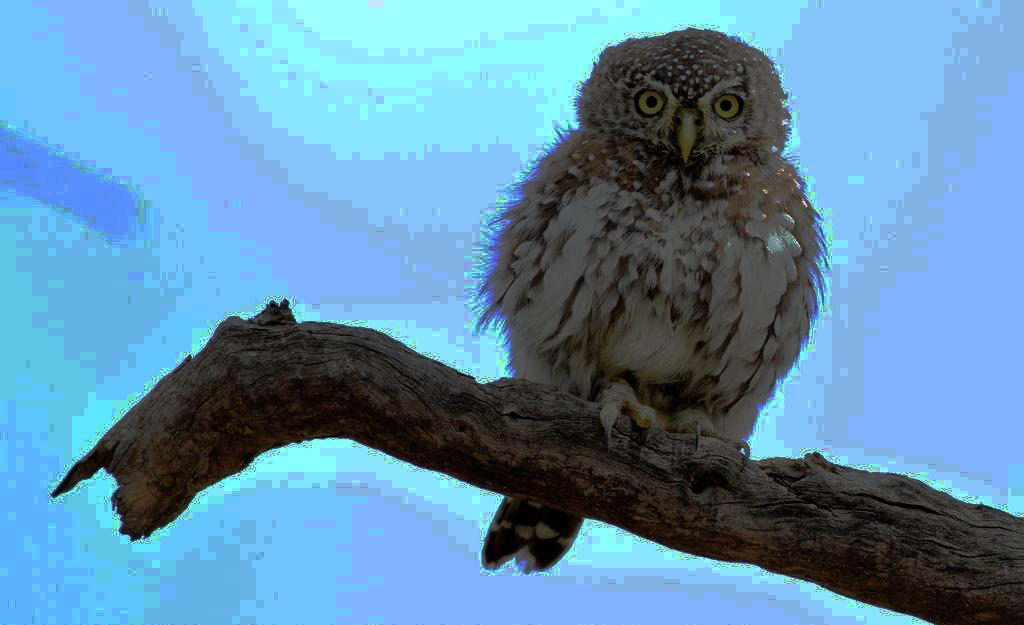Owl: (480, 29, 828, 574)
